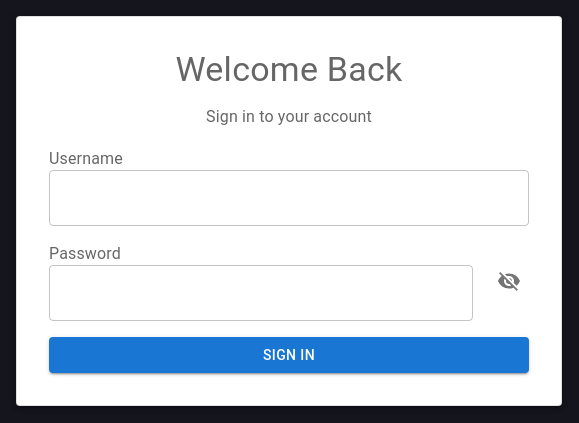
SignInPage › toggles password visibility
This screenshot has width=579, height=423.
Click the button named "Show password". click: (509, 281)
box: [489,261,529,301]
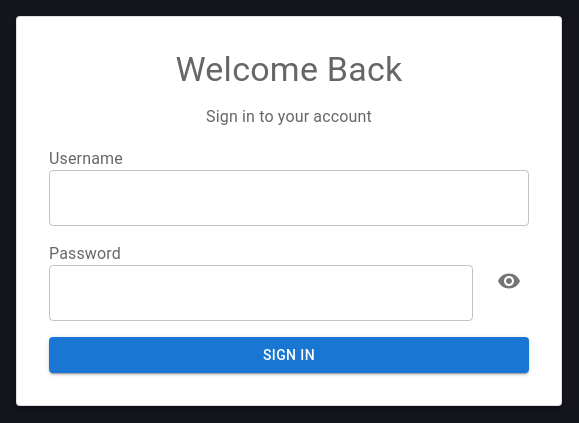
Expected: the button named "Hide password" is shown, [489,261,529,301]
